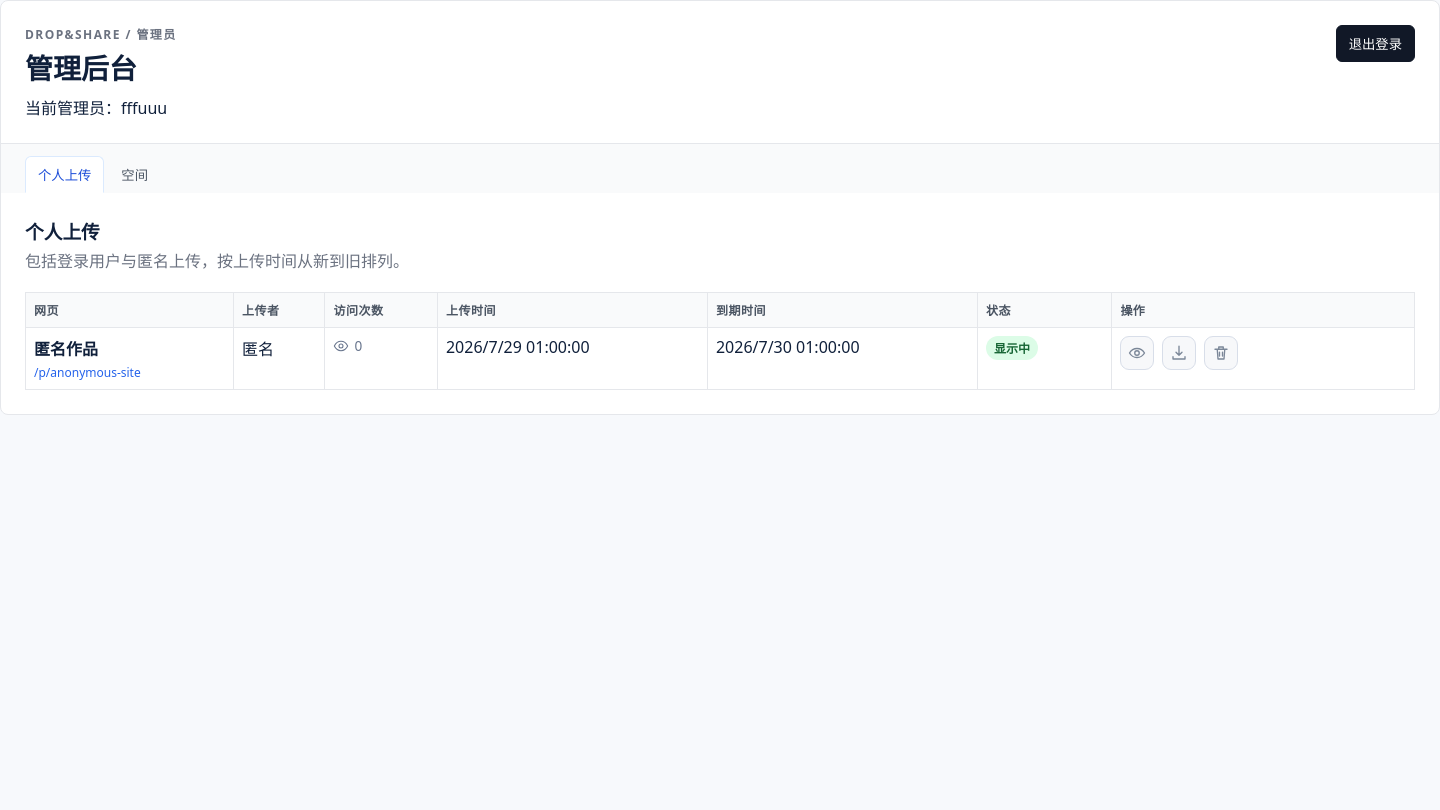
Test: AdminPage › loads a selected space detail
Click the button "空间".
click(135, 174)  # box 108,156 -> 161,193
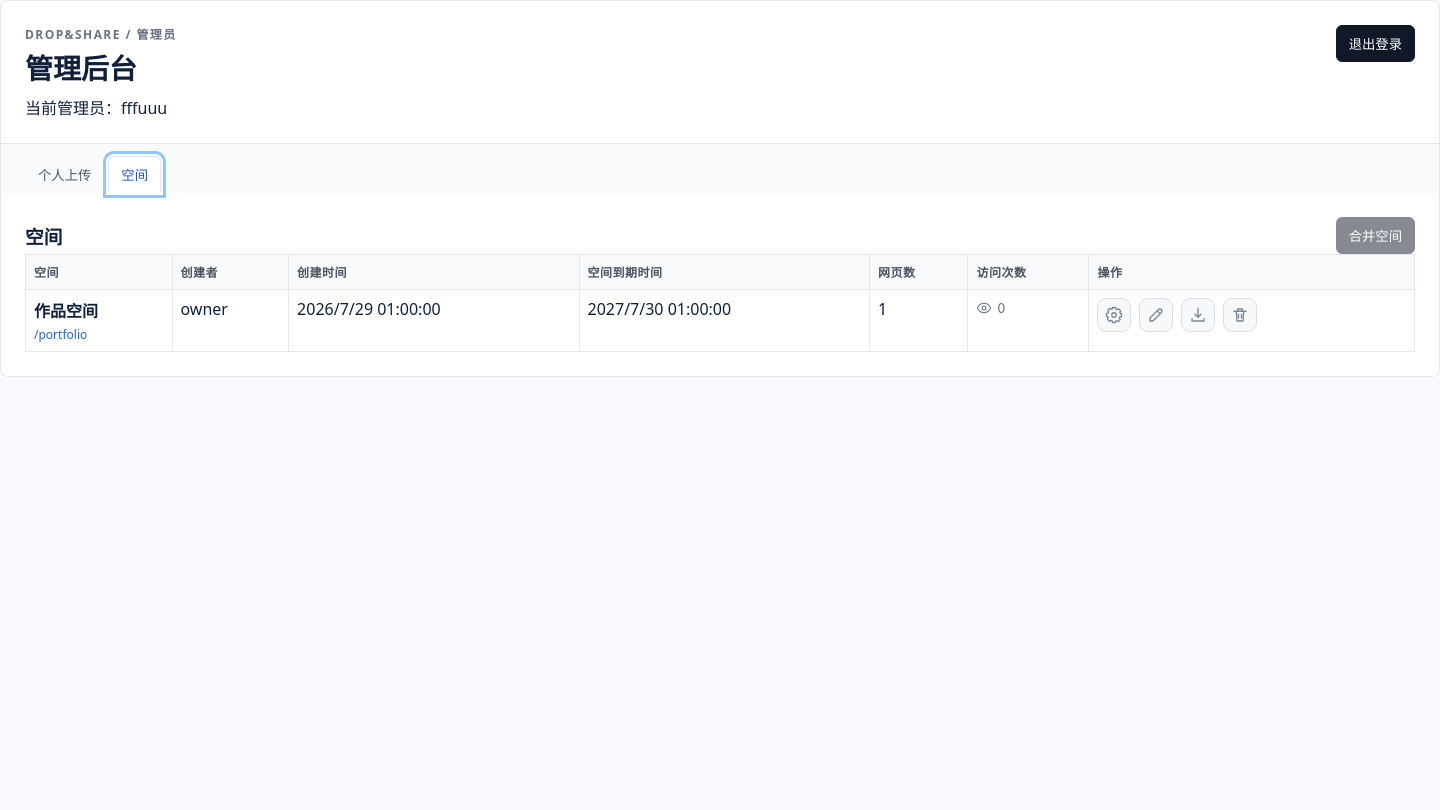
Expected: the 2nd icon is shown, 1106,306 -> 1124,324
Expected: the column heading "空间到期时间" is shown, 579,254 -> 870,290
Click the button named "查看作品空间详情".
click(1114, 315)  # box 1098,298 -> 1132,332
(page scrolled)
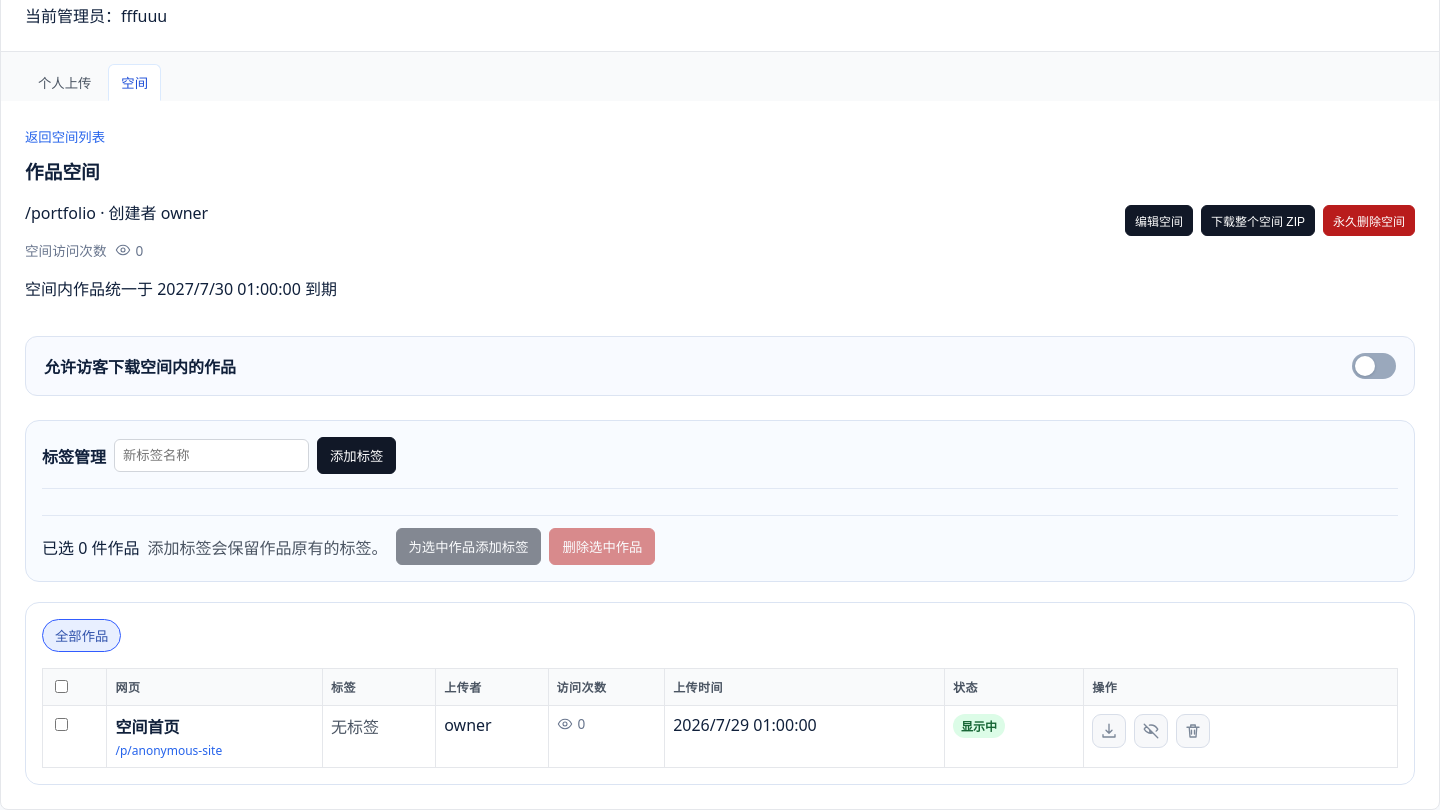
Expected: the text "空间首页" is shown, 116,716 -> 180,738
Expected: the button named "隐藏空间首页" is shown, 1134,714 -> 1168,748
Expected: the column heading "到期时间" is gone
